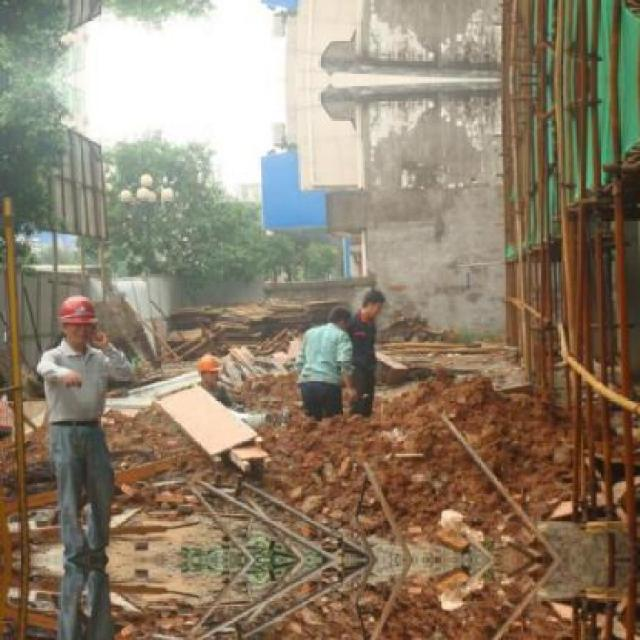Head: (359, 288, 386, 322), (323, 302, 354, 331)
Helmet: (54, 292, 100, 345), (191, 350, 220, 388)
